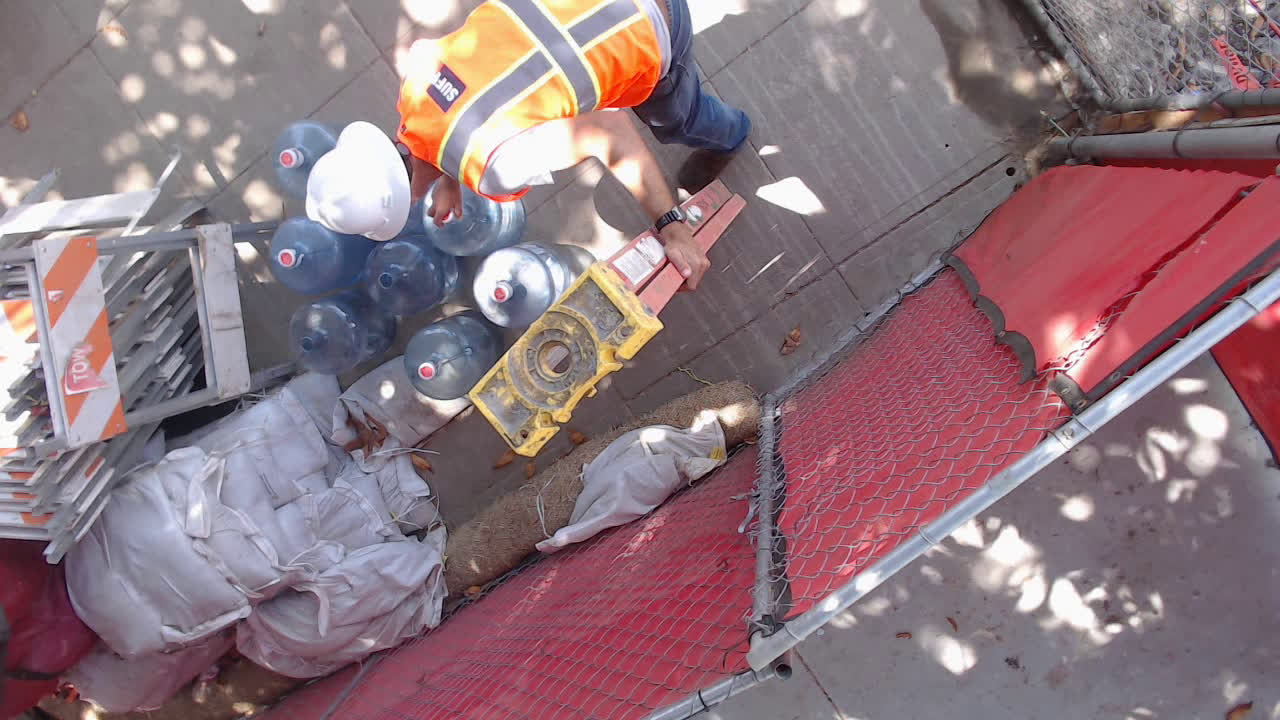hardhat: (306, 122, 409, 248)
safetyvest: (391, 1, 667, 214)
